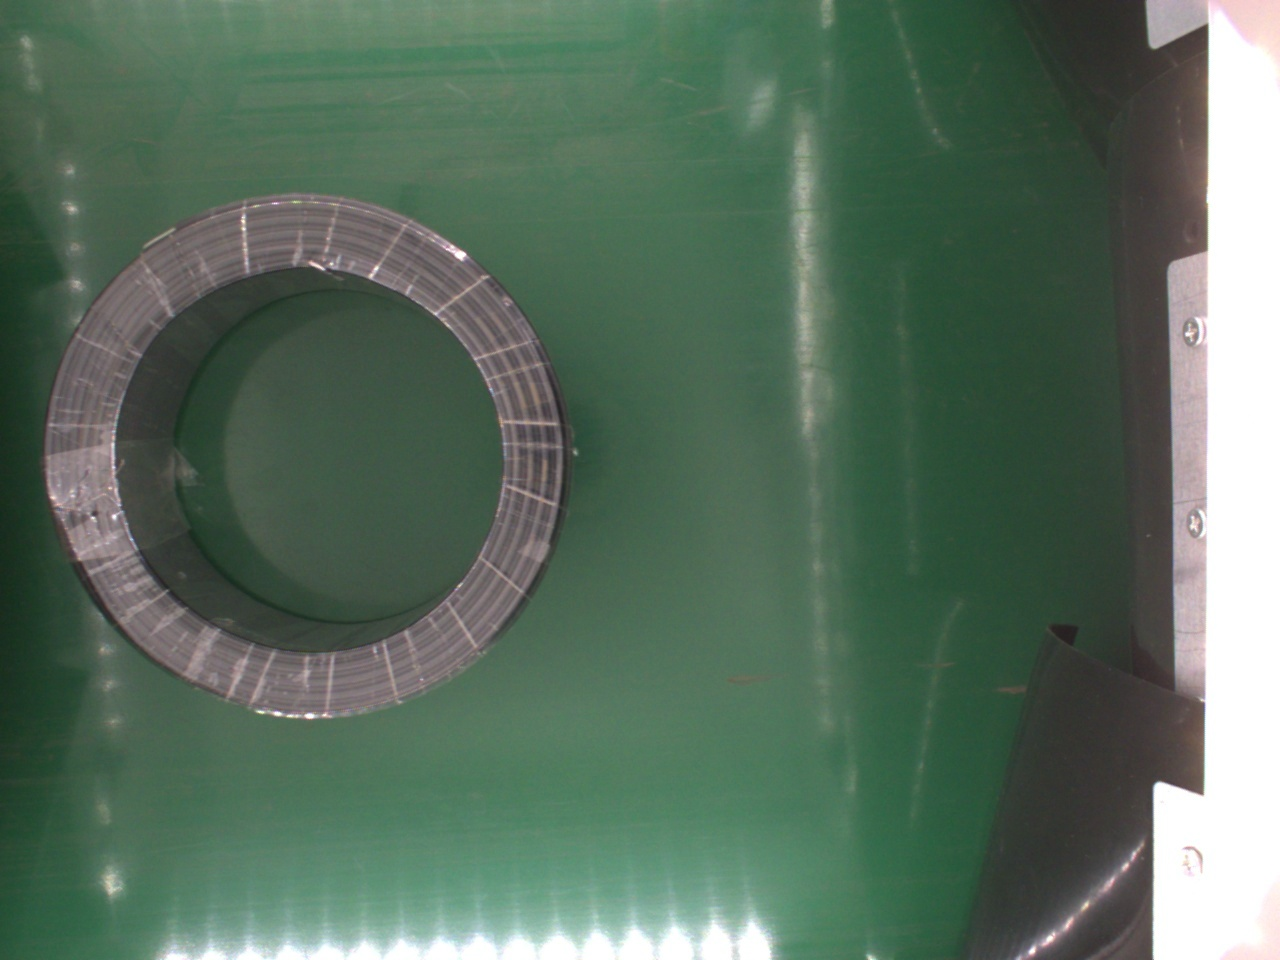black: (48, 192, 569, 721)
